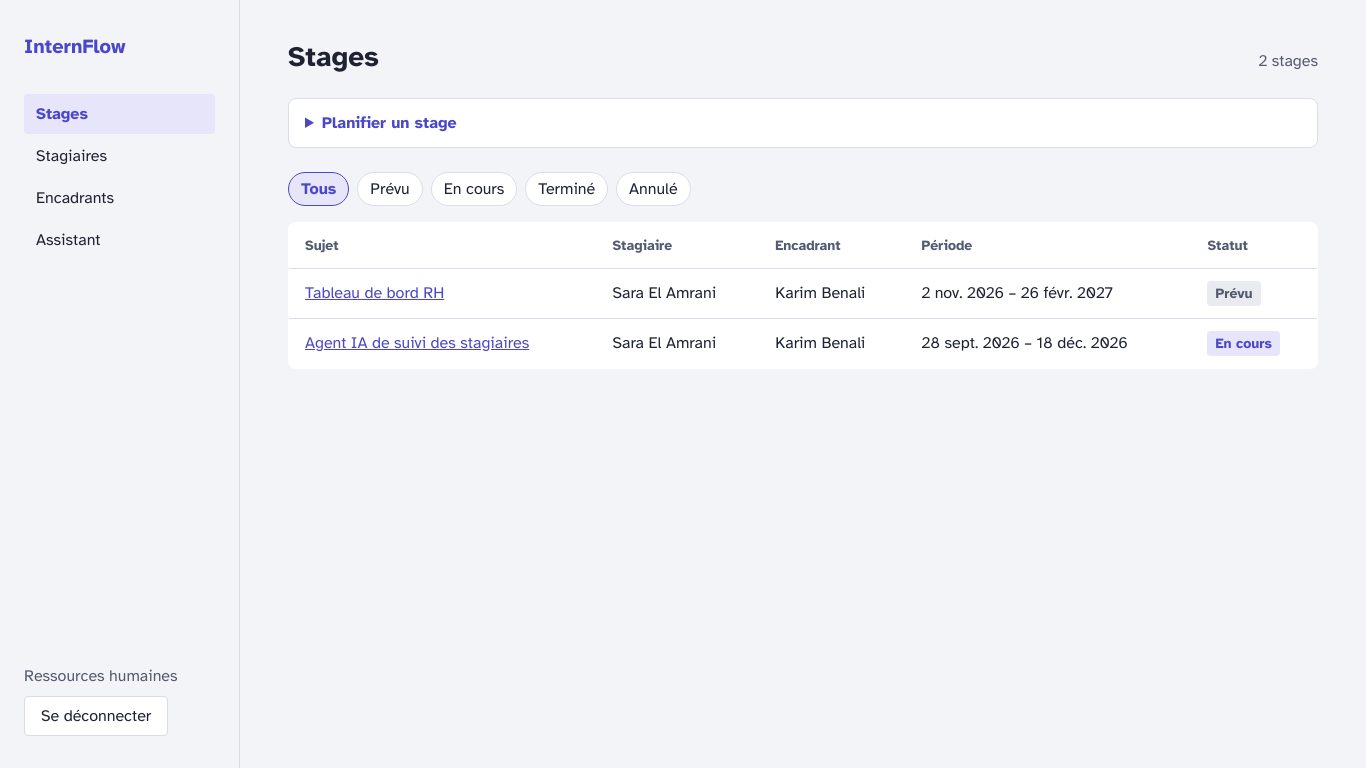
Test case: liste des stages › filtre par statut
Expected: the link "Tableau de bord RH" is shown, top-left (305, 283), bottom-right (444, 303)
Click the button "En cours". click: (474, 189)
box: top-left (431, 172), bottom-right (517, 206)
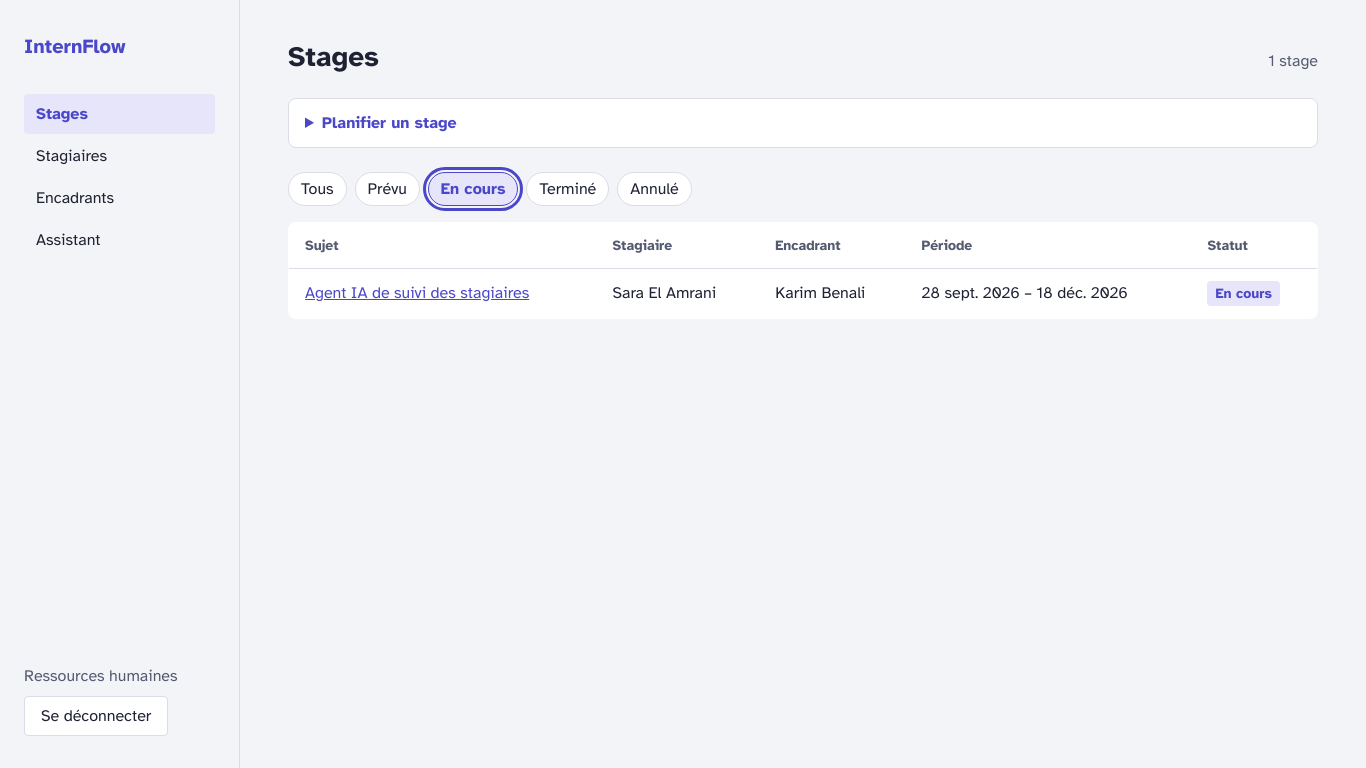
Expected: the text "1 stage" is shown, top-left (1268, 49), bottom-right (1318, 73)
Expected: the link "Tableau de bord RH" is gone
